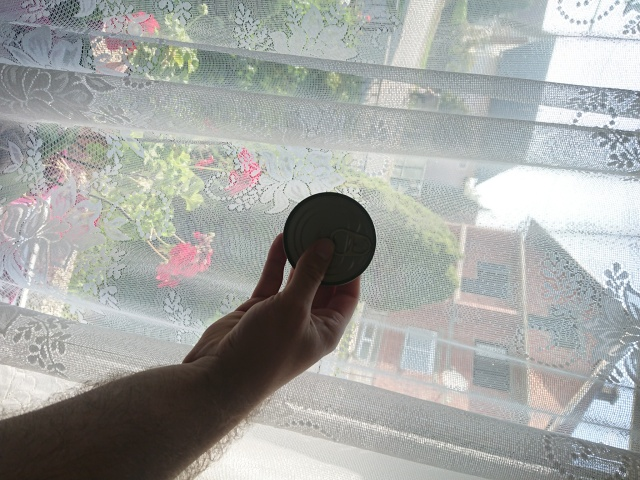Gavrilovic Pork Liver Pate 100g: (280, 189, 379, 289)
